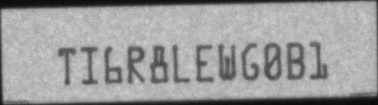0: (263, 40, 283, 82)
1: (310, 40, 328, 80)
6: (104, 46, 122, 84)
8: (149, 43, 168, 83)
B: (285, 42, 307, 80)
E: (196, 42, 215, 82)
G: (241, 42, 260, 81)
I: (79, 45, 99, 84)
L: (172, 44, 190, 84)
R: (127, 44, 145, 84)
T: (58, 47, 76, 86)
W: (218, 42, 237, 82)
